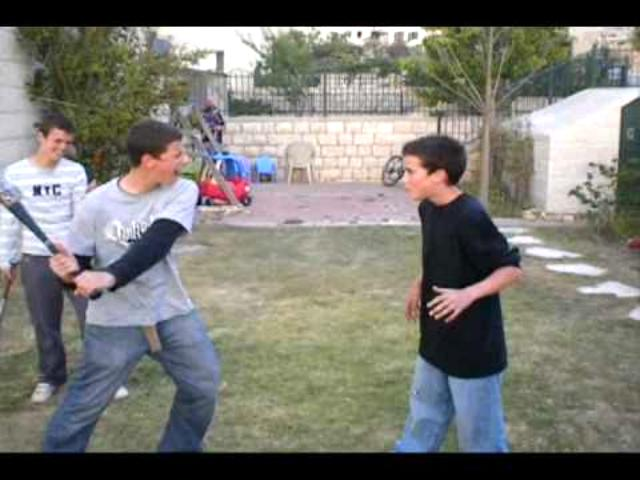baseball bat: (0, 168, 102, 298)
